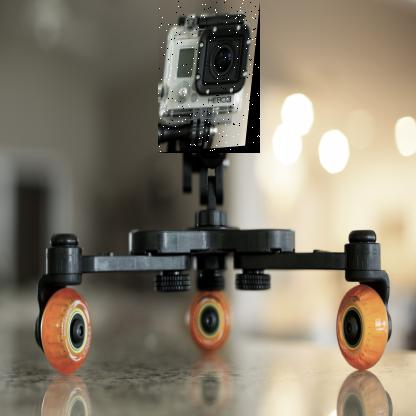Camera: (159, 1, 262, 155)
